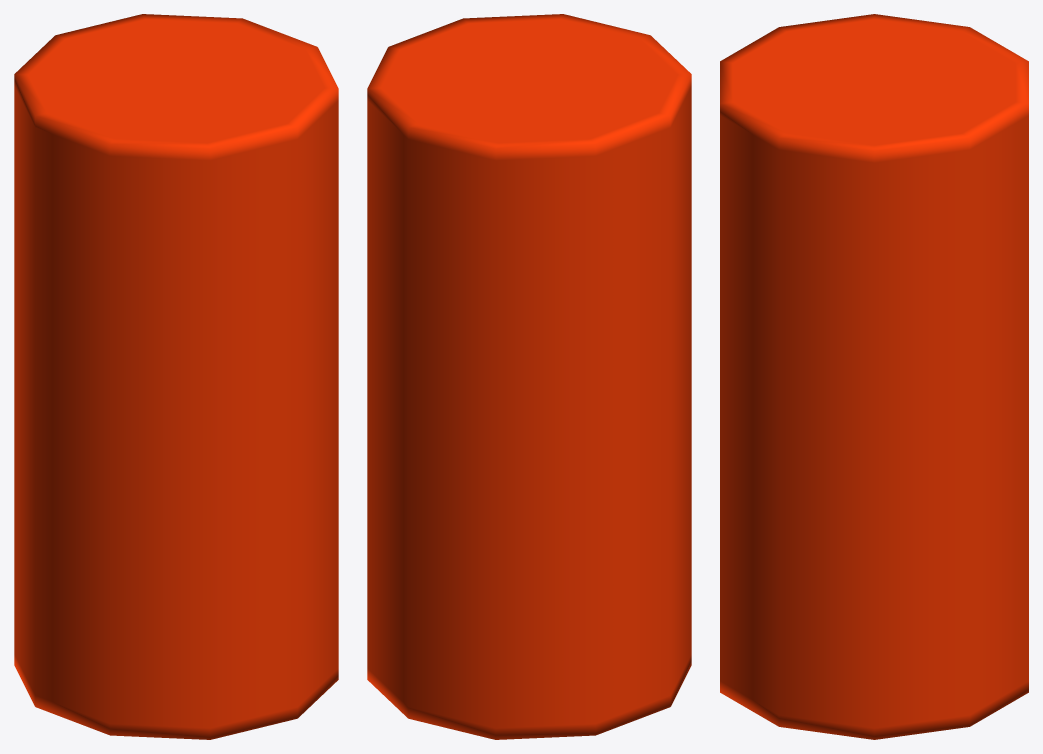
Rendered from wooden_block_cyl_01.FBX.
3 views of the same model, side by side, from view 1: azimuth 30°, elevation 25°; view 2: azimuth 150°, elevation 25°; view 3: azimuth 270°, elevation 25° (orthographic).
Visible parts, largest first — view 1: wooden_block_cyl_01; view 2: wooden_block_cyl_01; view 3: wooden_block_cyl_01.
Boxes of the visible parts, box(x1,y1,x2,y2) form: wooden_block_cyl_01: box(14, 14, 338, 739); wooden_block_cyl_01: box(367, 14, 691, 739); wooden_block_cyl_01: box(720, 14, 1028, 739).
Bounding box in the file's own units: 196 × 392 × 186.
